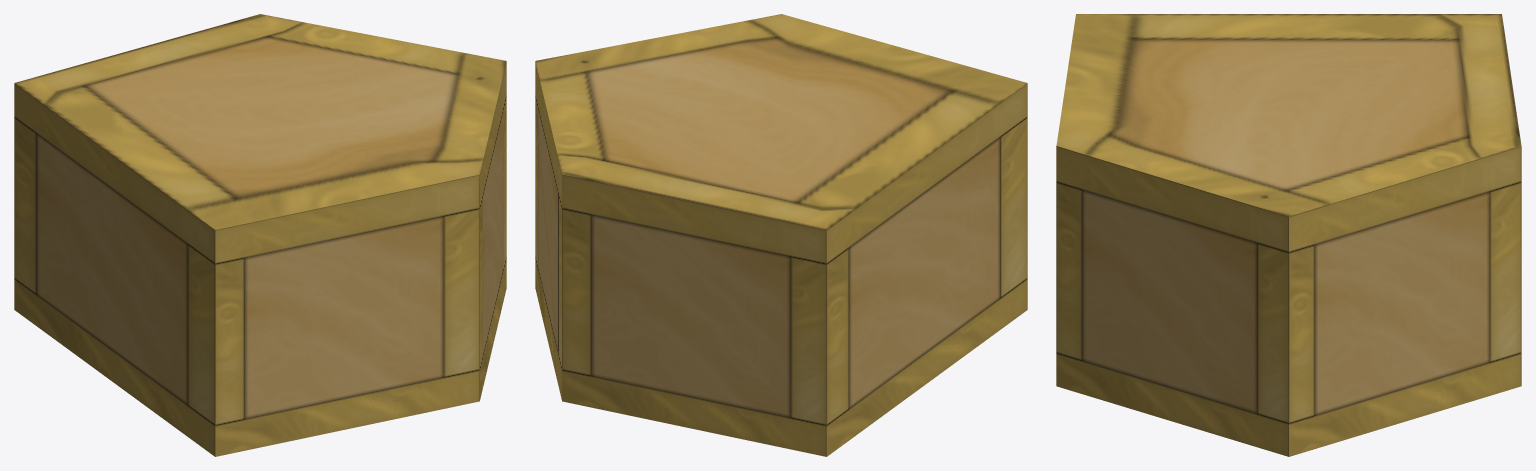
File: woodPenta.obj
The picture shows the model from 3 angles, left to right: view 1: azimuth 30°, elevation 25°; view 2: azimuth 150°, elevation 25°; view 3: azimuth 270°, elevation 25°; orthographic projection. The views are drawn at different scales.
Visible parts, largest first — view 1: woodPenta; view 2: woodPenta; view 3: woodPenta.
Boxes of the visible parts, <box> form: woodPenta: <box>14,14,506,456</box>; woodPenta: <box>535,14,1027,456</box>; woodPenta: <box>1056,14,1521,456</box>.
Bounding box in the file's own units: 1.81 × 1 × 1.75.
1 material, 1 textured.
